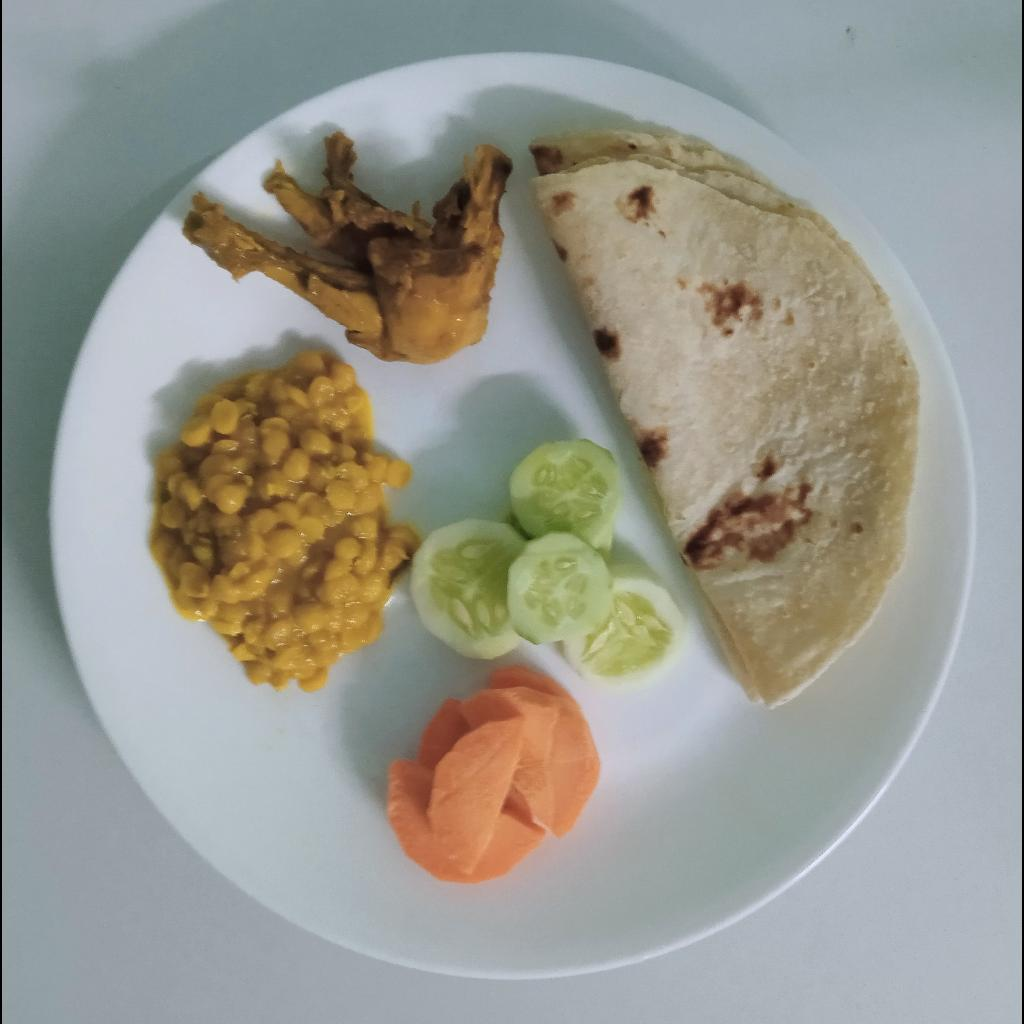carrot: (387, 663, 603, 882)
chicken: (183, 137, 513, 364)
cucumber: (409, 438, 690, 693)
daal: (149, 350, 418, 693)
ruti: (528, 129, 920, 712)
